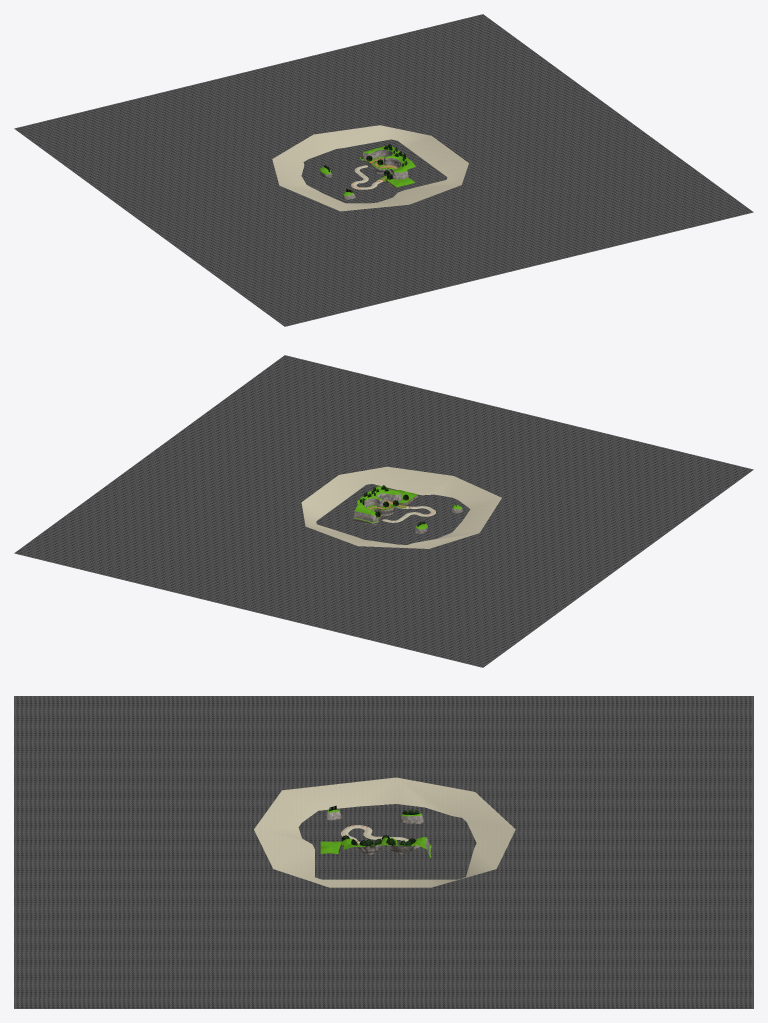
3 renders of one model, top to bottom at view 1: azimuth 30°, elevation 25°; view 2: azimuth 150°, elevation 25°; view 3: azimuth 270°, elevation 25°, orthographic. The views are drawn at different scales.
Parts seen in each view (by area): view 1: ef_sea, obj_suna, obj_kusa, obj_iwa; view 2: ef_sea, obj_suna, obj_iwa, obj_kusa; view 3: ef_sea, obj_suna, obj_iwa, obj_kusa.
Boxes of the visible parts, x1,y1,x2,y2 form: ef_sea: (14, 14, 753, 326); obj_suna: (272, 125, 468, 211); obj_kusa: (320, 146, 415, 196); obj_iwa: (319, 149, 408, 199); ef_sea: (14, 355, 753, 667); obj_suna: (301, 466, 501, 548); obj_iwa: (353, 493, 462, 533); obj_kusa: (353, 486, 462, 529); ef_sea: (14, 696, 753, 1008); obj_suna: (254, 777, 515, 887); obj_iwa: (325, 811, 431, 860); obj_kusa: (320, 809, 431, 857).
Bounding box in the file's own units: 5001 × 212 × 5001.
19 materials, 19 textured.
